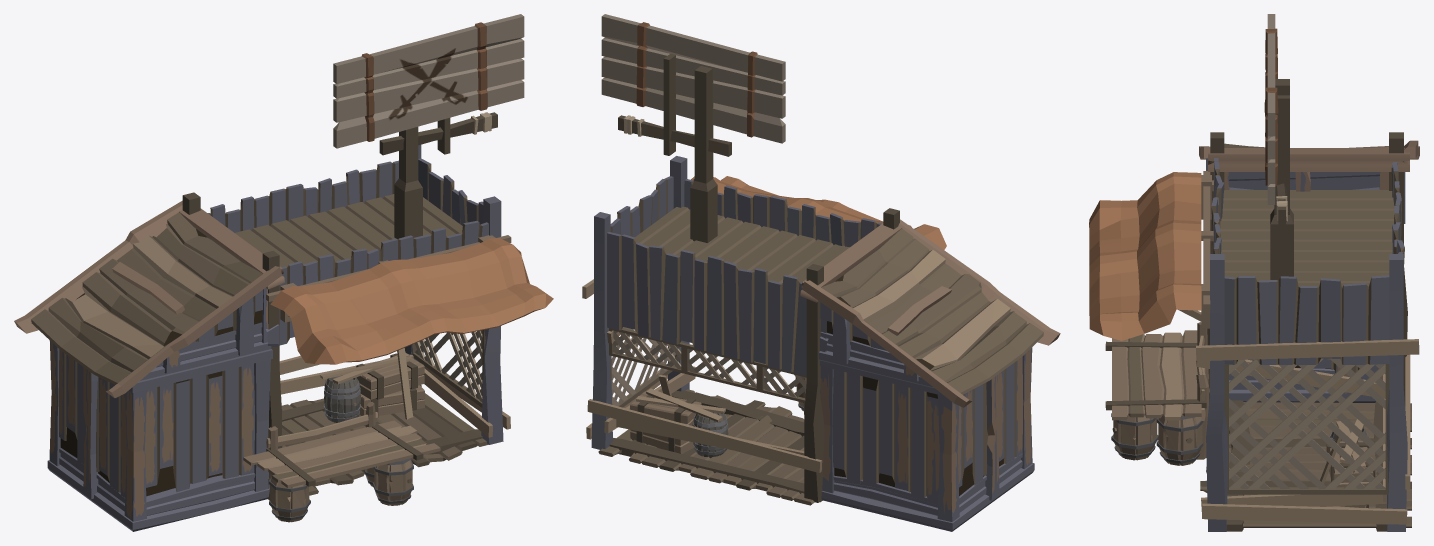
The model's file is SM_Bld_Shop_02.fbx.
3 views of the same model, side by side, from view 1: azimuth 30°, elevation 25°; view 2: azimuth 150°, elevation 25°; view 3: azimuth 270°, elevation 25° (orthographic). The views are drawn at different scales.
Visible parts, largest first — view 1: SM_Bld_Shop_02; view 2: SM_Bld_Shop_02; view 3: SM_Bld_Shop_02.
Part boxes in pixels (box(x1,y1,x2,y2)): SM_Bld_Shop_02: box(14, 14, 553, 531); SM_Bld_Shop_02: box(582, 14, 1060, 531); SM_Bld_Shop_02: box(1089, 14, 1419, 531).
Size of the model in its own units: 7.86 by 6.83 by 4.51.
